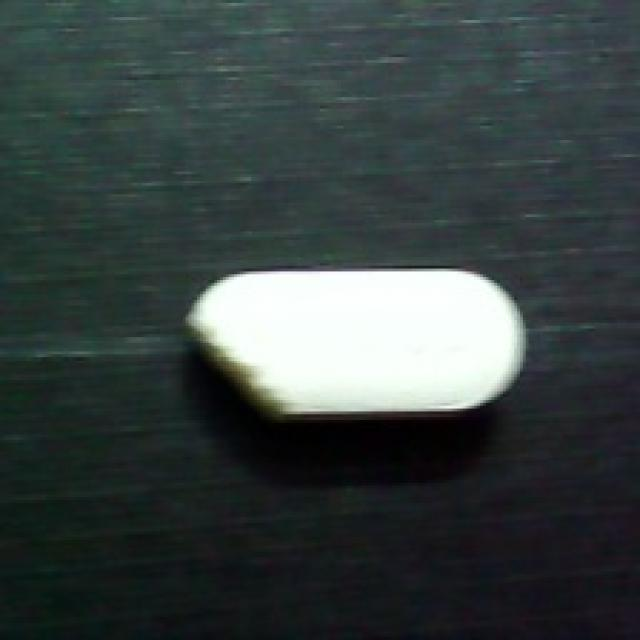defected: (183, 251, 537, 426)
